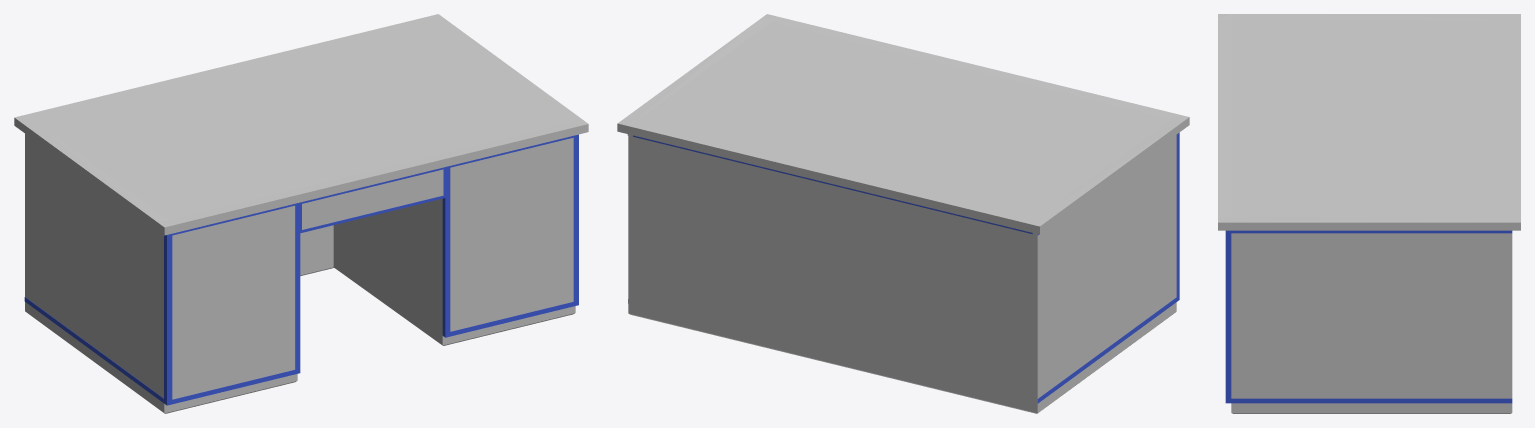
Rendered from MejaLab_Putih.glb.
3 renders of one model, left to right at view 1: azimuth 30°, elevation 25°; view 2: azimuth 150°, elevation 25°; view 3: azimuth 270°, elevation 25°, orthographic.
Parts seen in each view (by area): view 1: Cube.001; view 2: Cube.001; view 3: Cube.001.
Part boxes in pixels (left/top/right/bottom): Cube.001: left=14, top=14, right=588, bottom=413; Cube.001: left=617, top=14, right=1189, bottom=413; Cube.001: left=1218, top=14, right=1520, bottom=413.
Bounding box in the file's own units: 2.06 × 0.9016 × 1.27.
